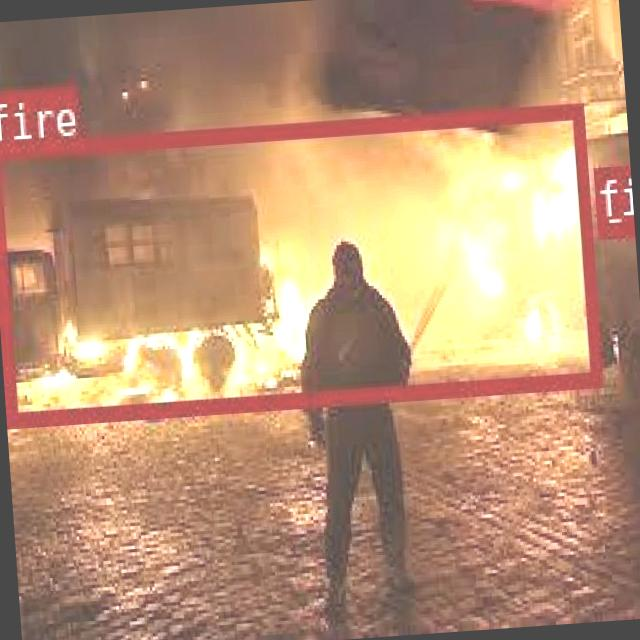fire: (0, 99, 601, 426), (592, 164, 630, 233)
